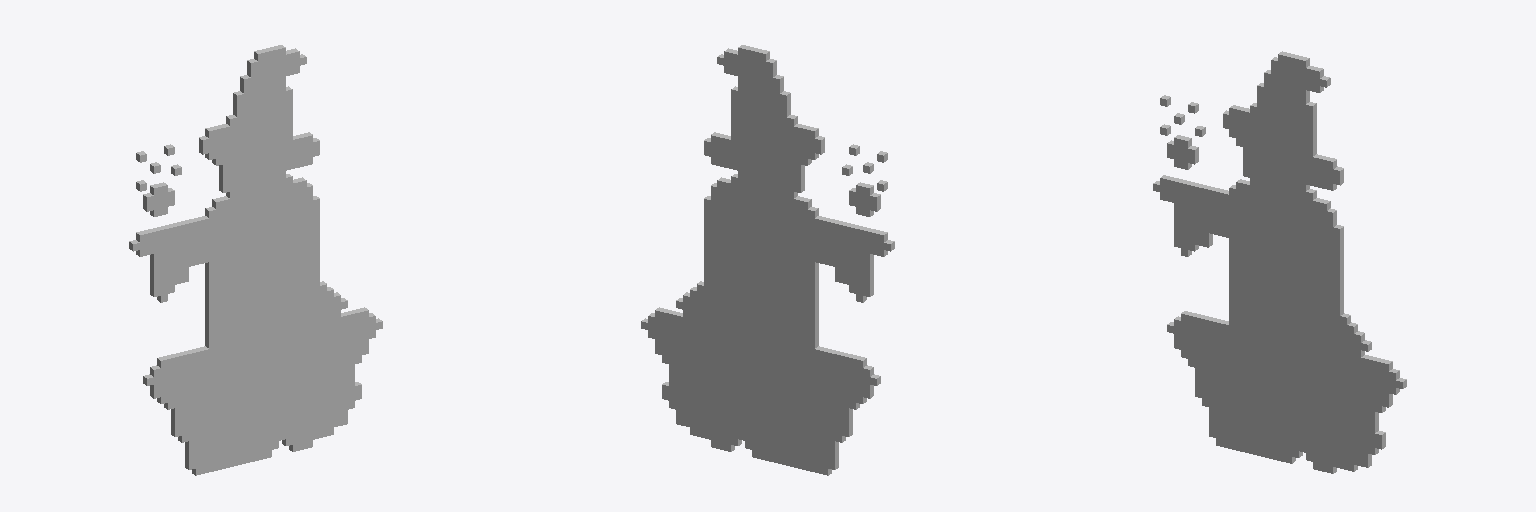
File: Mago.obj
The picture shows the model from 3 angles: view 1: azimuth 30°, elevation 25°; view 2: azimuth 150°, elevation 25°; view 3: azimuth 330°, elevation 25°; orthographic projection.
Parts seen in each view (by area): view 1: object 1; view 2: object 1; view 3: object 1.
Boxes of the visible parts, box(x1,y1,x2,y2) form: object 1: box(129, 45, 382, 475); object 1: box(641, 45, 894, 475); object 1: box(1153, 51, 1406, 473).
Bounding box in the file's own units: 3.6 × 5.6 × 0.1.